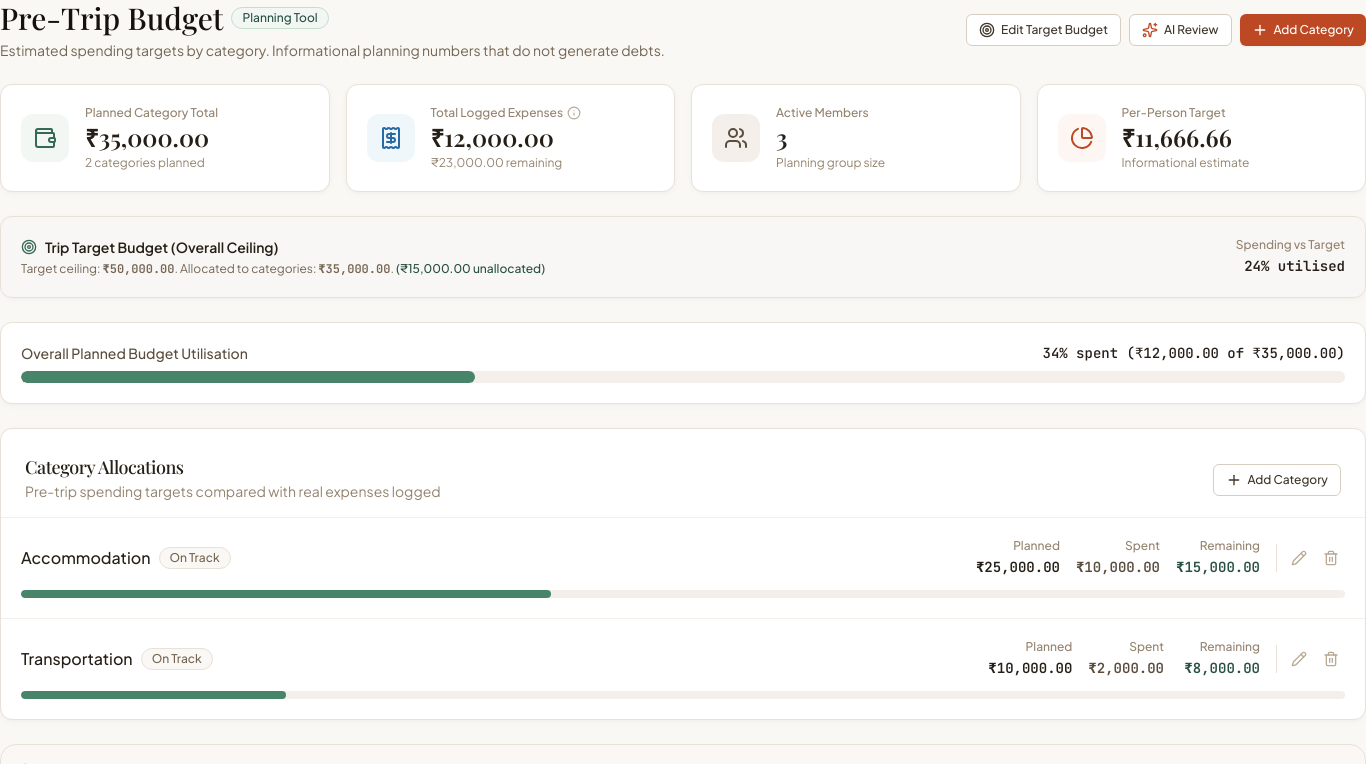
Scenario: TripBudgetPage › validates client-side constraints on category creation
Step 1. Click the button "Add Category" in the row of "Planning Tool" → (1303, 30), box x1=1240 y1=14 x2=1365 y2=46
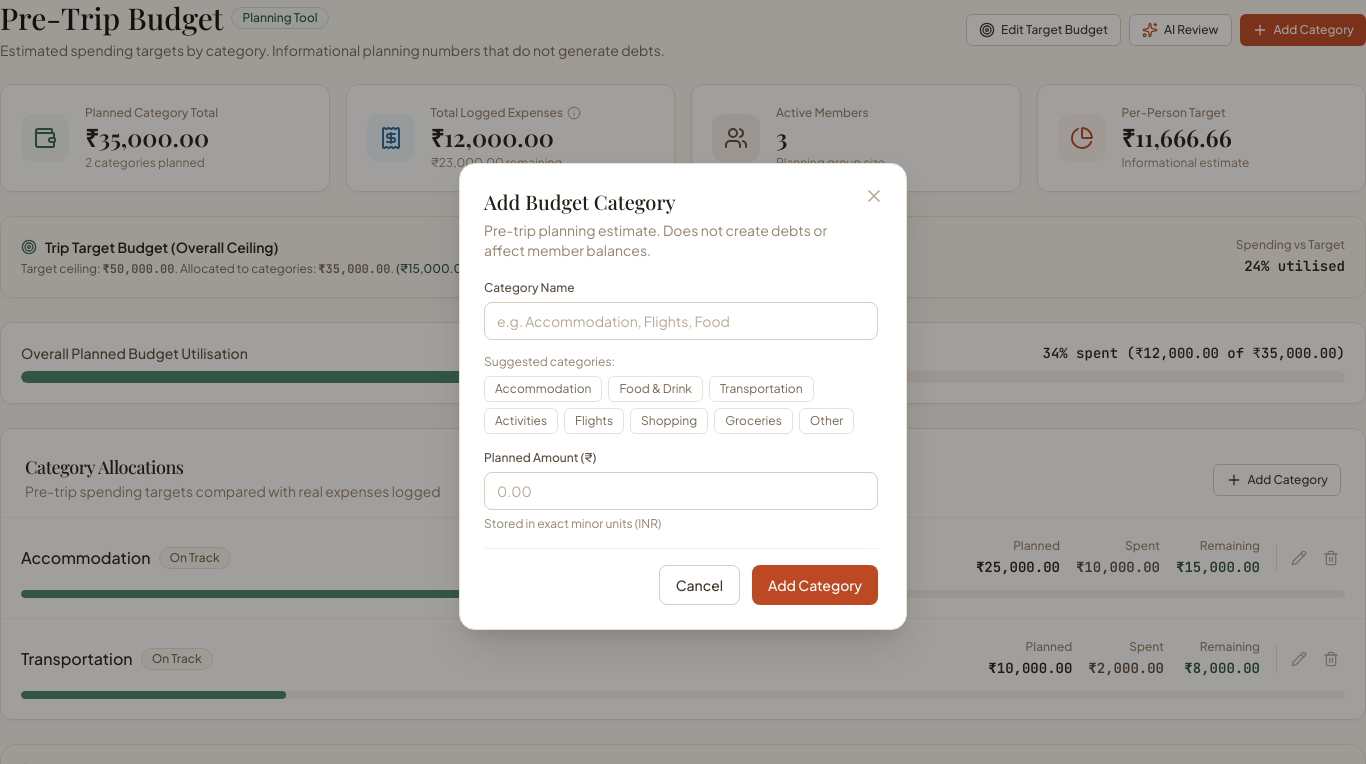
# Empty submission
Step 2. Click the button "Add Category" → (815, 584), box x1=752 y1=564 x2=878 y2=604
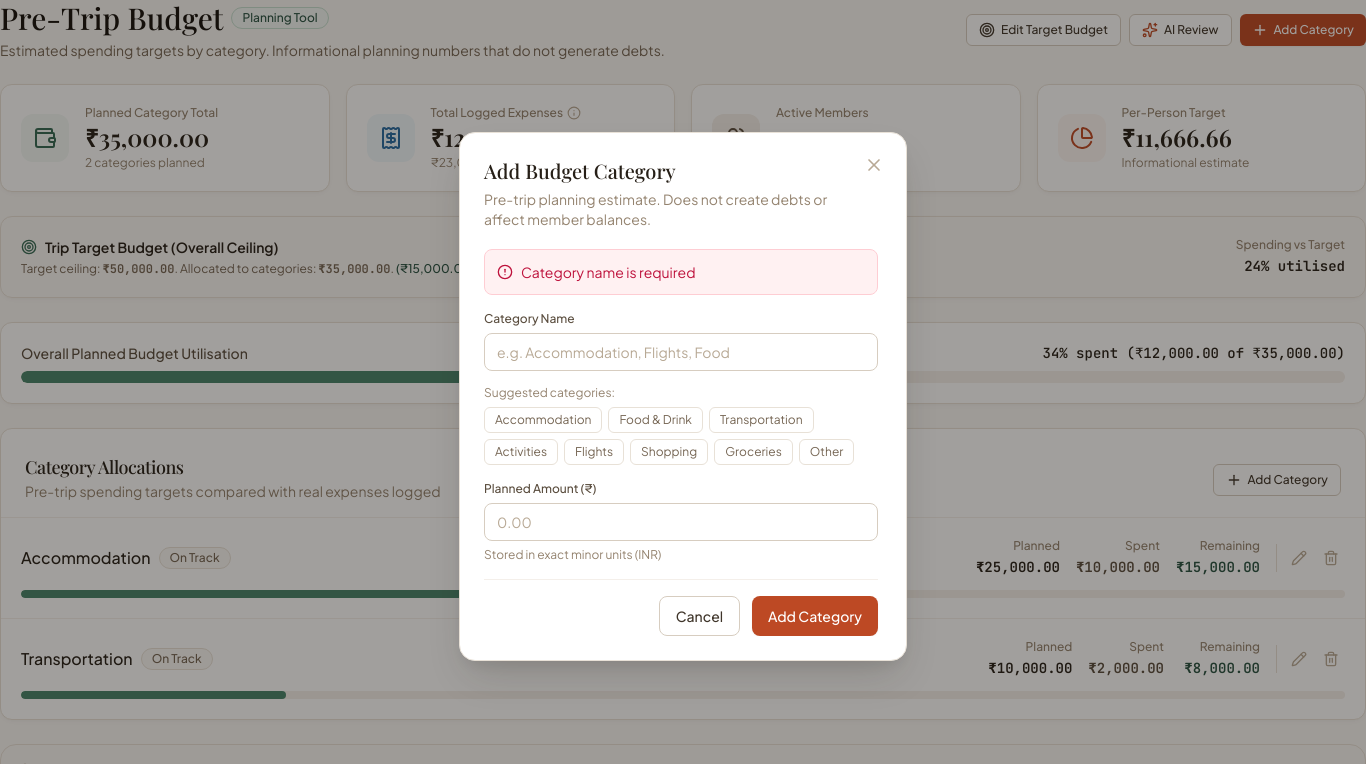
Expected: the text "Category name is required" is shown, x1=521 y1=262 x2=696 y2=282
# Zero amount
Step 3. Type "Activities" into the field labelled "Category Name" → (681, 352), box x1=484 y1=332 x2=878 y2=370
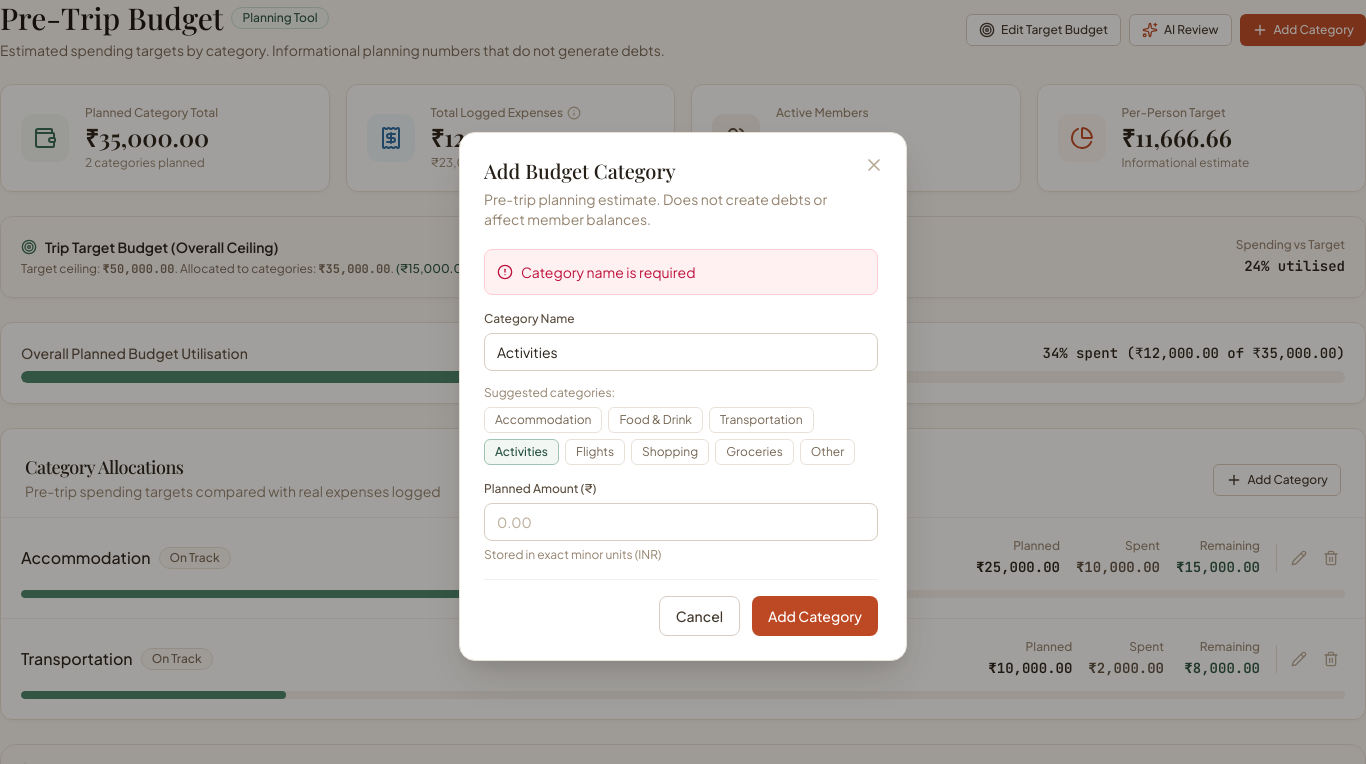
Step 4. Type "0" into the number field labelled "Planned Amount (₹)" → (681, 522), box x1=484 y1=502 x2=878 y2=540
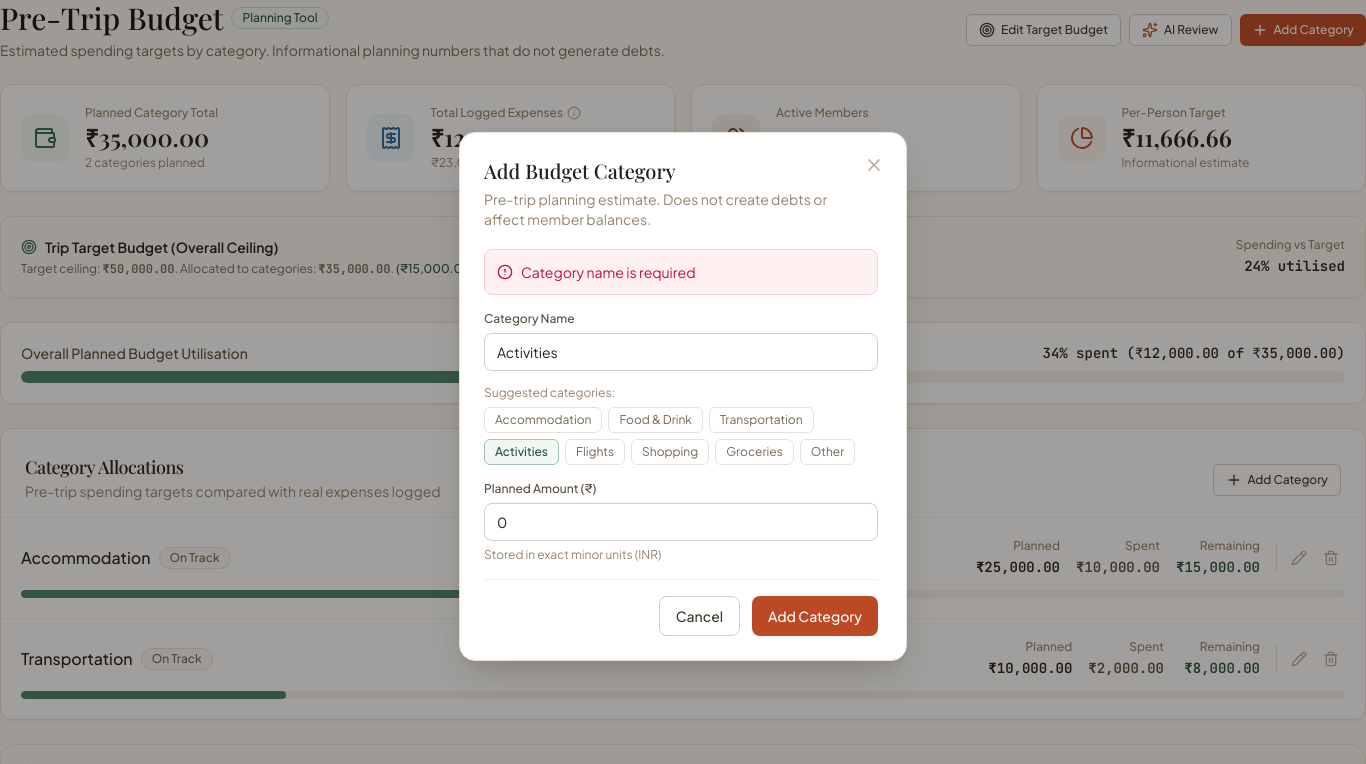
Step 5. Click the button "Add Category" → (815, 616), box x1=752 y1=596 x2=878 y2=636
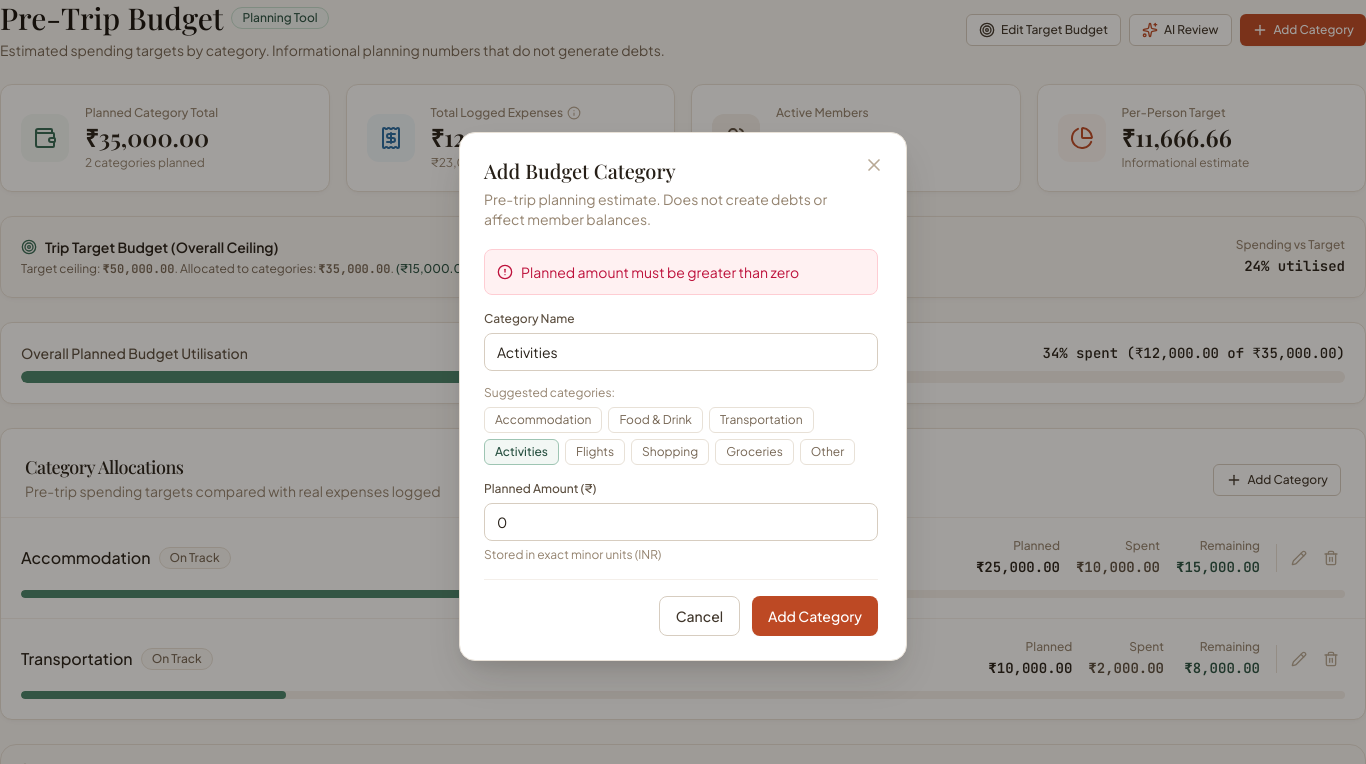
Expected: the text "Planned amount must be greater than zero" is shown, x1=521 y1=262 x2=799 y2=282
